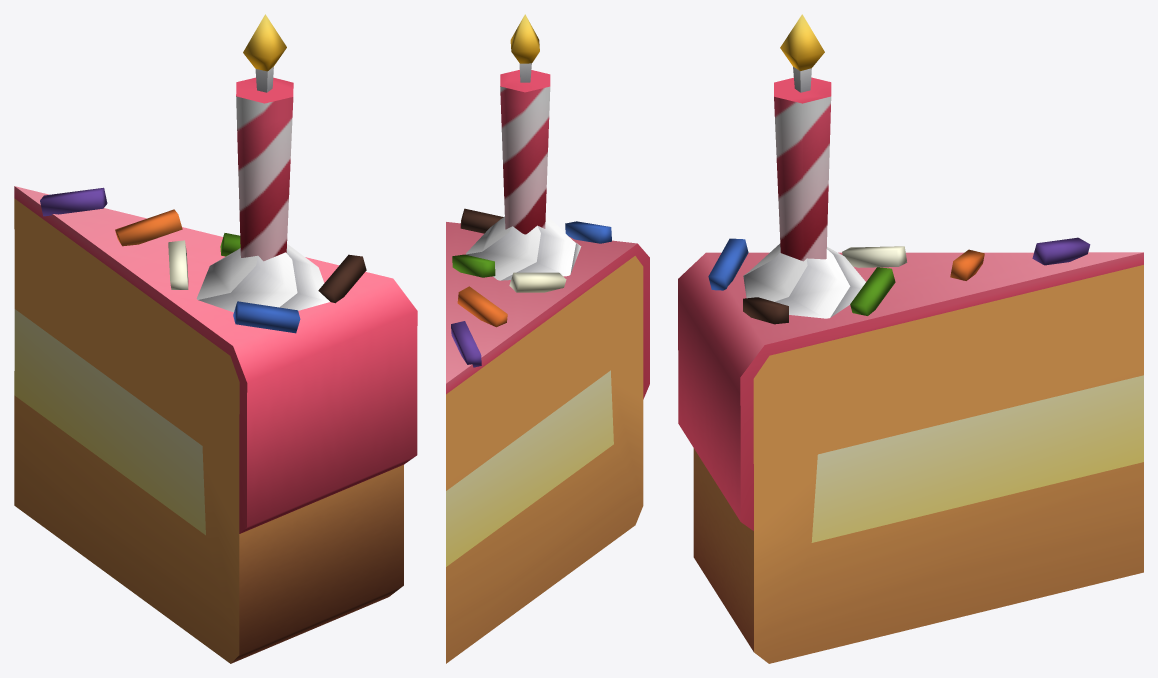
File: m_BirthdayCake01_Slice01.fbx
The picture shows the model from 3 angles, left to right: view 1: azimuth 30°, elevation 25°; view 2: azimuth 150°, elevation 25°; view 3: azimuth 270°, elevation 25°; orthographic projection. The views are drawn at different scales.
Visible parts, largest first — view 1: m_BirthdayCake01_Slice01; view 2: m_BirthdayCake01_Slice01; view 3: m_BirthdayCake01_Slice01.
Boxes of the visible parts, box(x1,y1,x2,y2) form: m_BirthdayCake01_Slice01: box(14, 14, 417, 663); m_BirthdayCake01_Slice01: box(446, 14, 649, 663); m_BirthdayCake01_Slice01: box(678, 14, 1143, 663).
Bounding box in the file's own units: 7.51 × 20.5 × 14.48.
